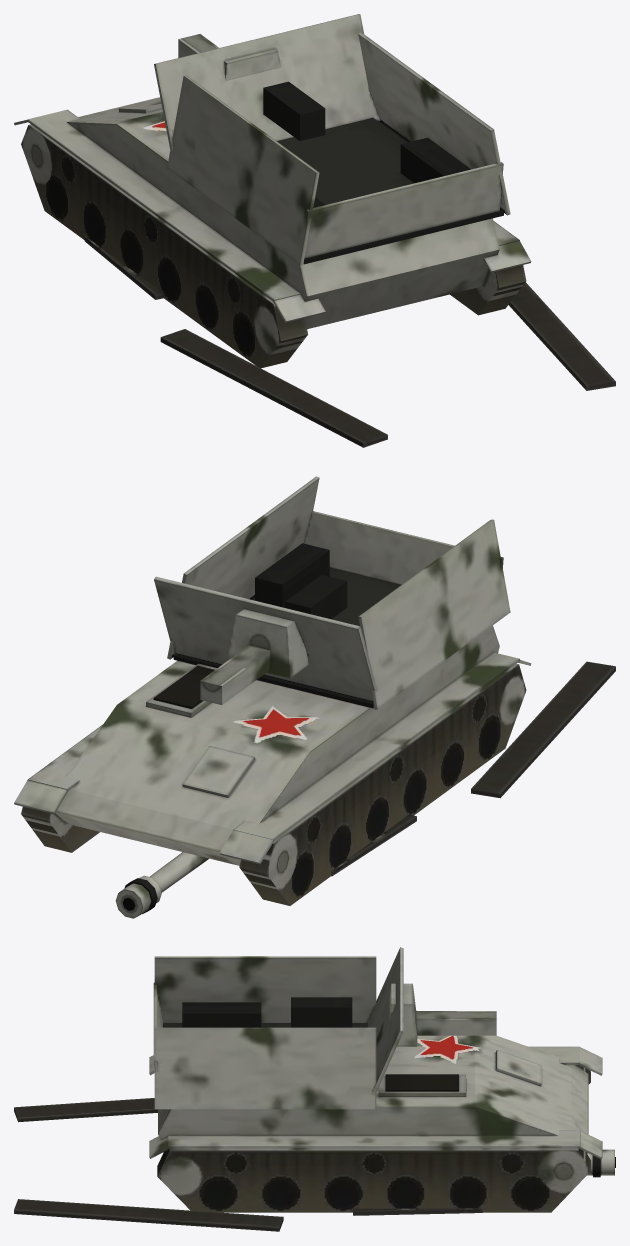
The model's file is su76_winter.glb.
3 views of the same model, one above another, from view 1: azimuth 30°, elevation 25°; view 2: azimuth 150°, elevation 25°; view 3: azimuth 270°, elevation 25° (orthographic). The views are drawn at different scales.
Visible parts, largest first — view 1: hull_ok, hull_trackL, hull_trackR; view 2: hull_ok, hull_trackL, gun_ok; view 3: hull_ok, hull_trackR, hull_trackL, gun_ok.
Boxes of the visible parts, <box> form: hull_ok: <box>14,14,531,368</box>; hull_trackL: <box>84,236,387,447</box>; hull_trackR: <box>508,282,615,390</box>; hull_ok: <box>14,476,531,905</box>; hull_trackL: <box>331,661,615,876</box>; gun_ok: <box>115,852,208,918</box>; hull_ok: <box>149,947,602,1212</box>; hull_trackR: <box>14,1199,482,1231</box>; hull_trackL: <box>14,1098,157,1122</box>; gun_ok: <box>587,1149,615,1177</box>.
Size of the model in its own units: 3.74 by 2.47 by 6.88.
Materials: 12 (12 with a texture image).
